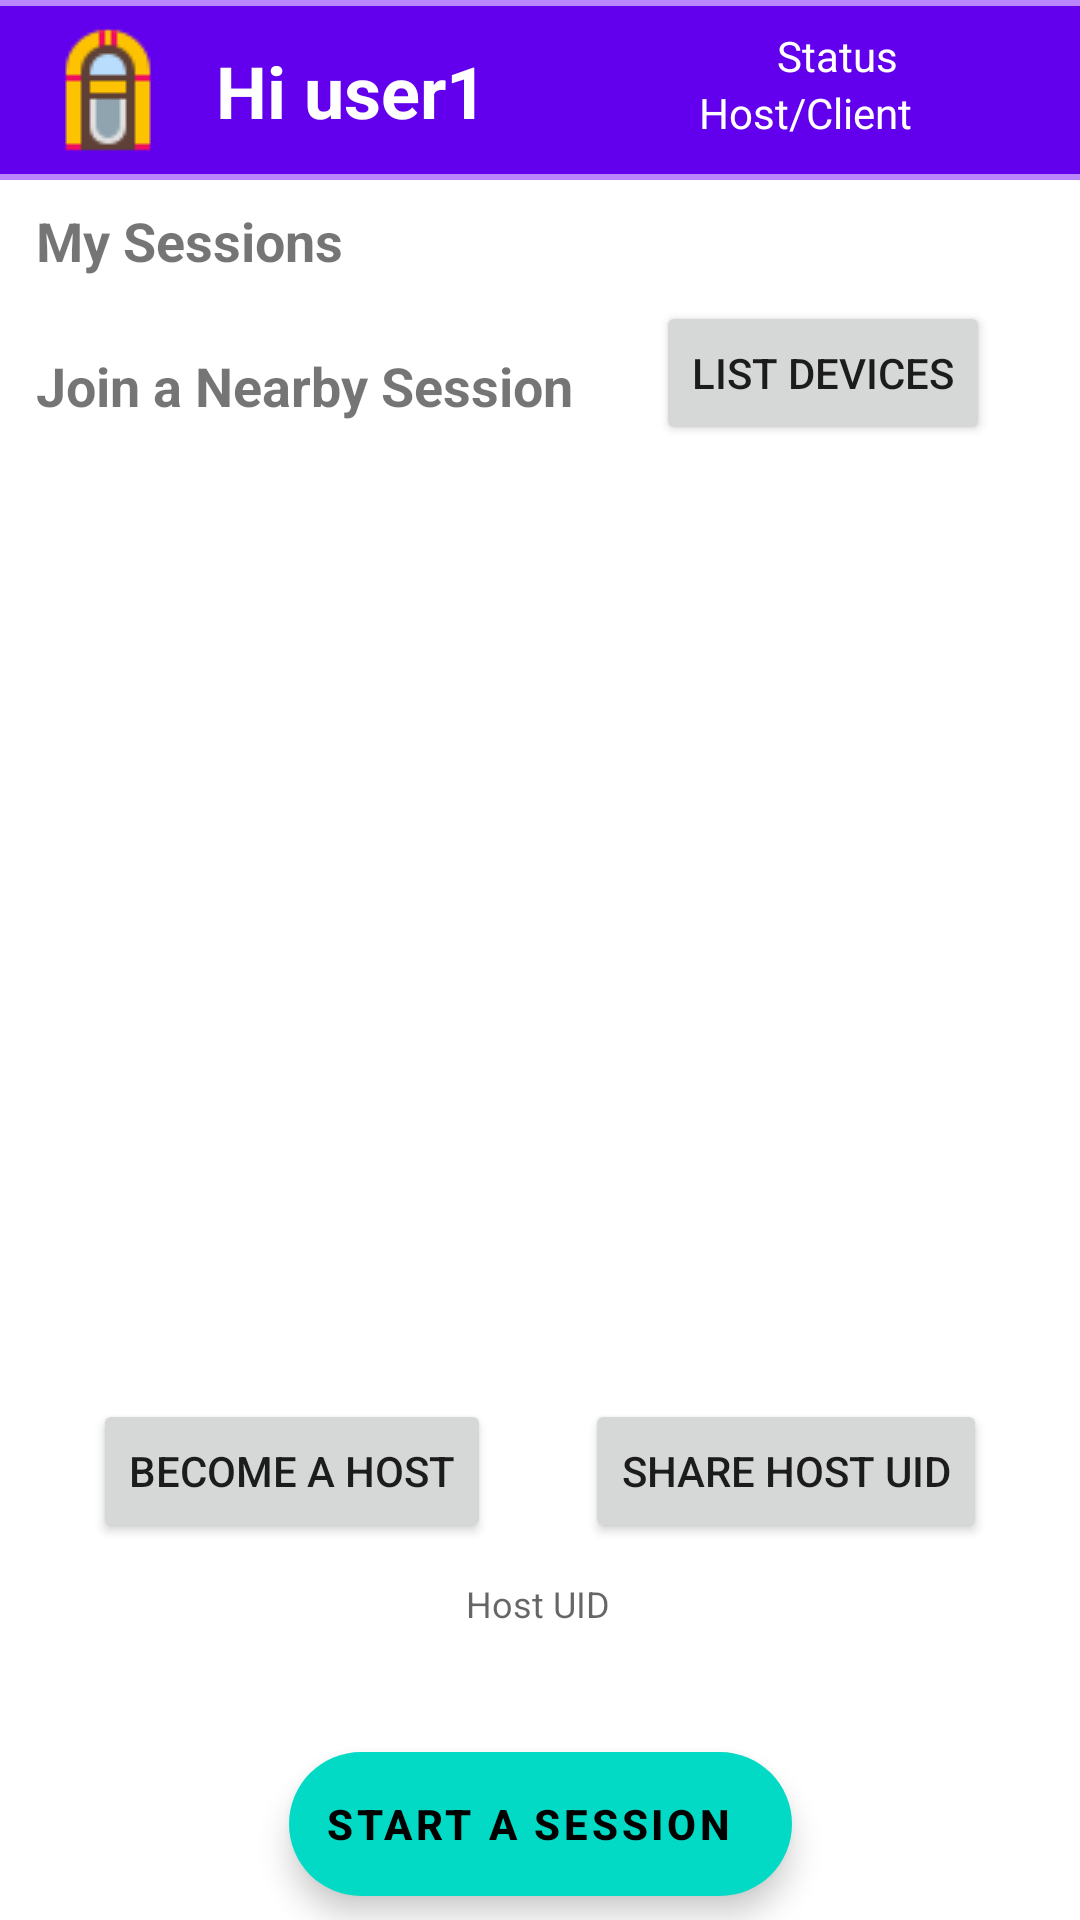

Icons on this 1080x1920 Android screen, each with the point to tap as [x,y]:
jukebox: [108,90]
